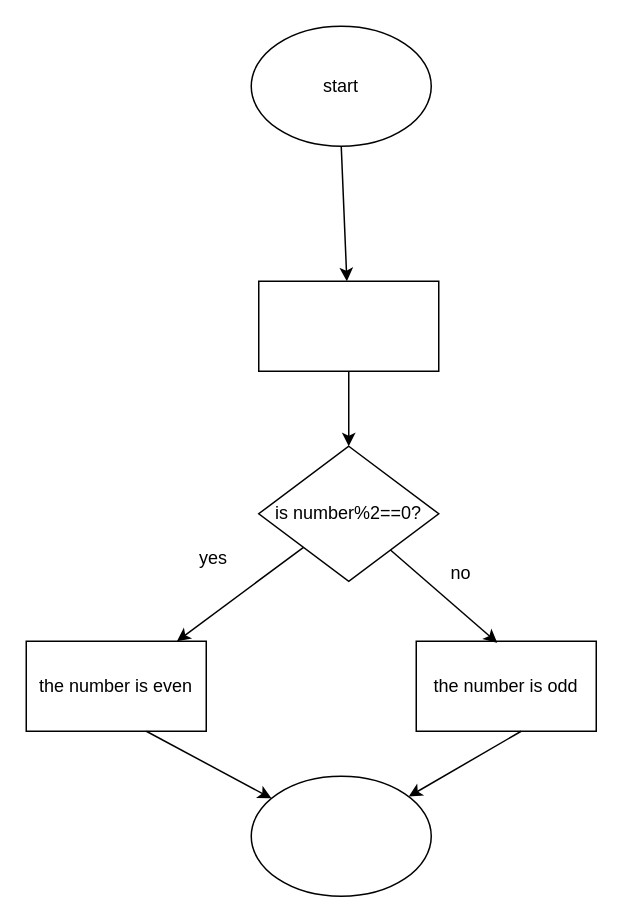
The diagram is 623 pixels wide and 923 high, and some of its shapes have lost their labels. The shapes that lost their labels are listed below. From the top down, each one's box as (x1, y1, x2, y2) in pixels, then its label:
(257, 280, 439, 371): input number
(250, 775, 431, 896): End
